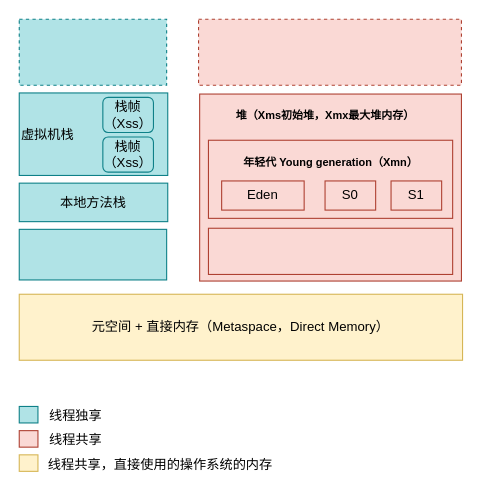
Some shapes in this 482 by 495 pixel diagram are drawn without their labels. The shapes that lost their labels are listed below. From the top down, each one's box as (x1, y1, x2, y2) in pixels, then its label:
(18, 18, 167, 85): 栈Stack
(197, 18, 461, 85): 堆Heap
(18, 228, 167, 280): PC 程序计数器
(207, 227, 453, 274): 老年代 Old generation
